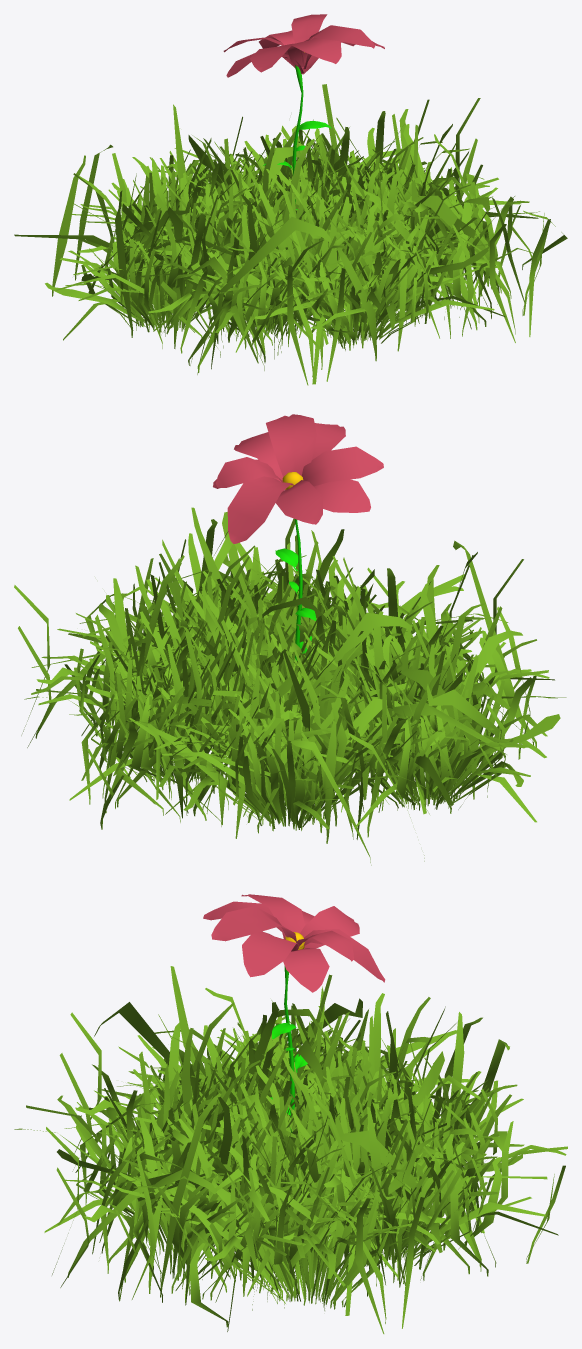
File: Player_Movement3.fbx
3 views of the same model, one above another, from view 1: azimuth 30°, elevation 25°; view 2: azimuth 150°, elevation 25°; view 3: azimuth 270°, elevation 25° (orthographic). The views are drawn at different scales.
Visible parts, largest first — view 1: Player; view 2: Player; view 3: Player.
Part boxes in pixels (x1=…): Player: x1=14, y1=14, x2=567, y2=385; Player: x1=14, y1=414, x2=566, y2=865; Player: x1=14, y1=894, x2=567, y2=1333.
Size of the model in its own units: 173 by 103 by 161.
